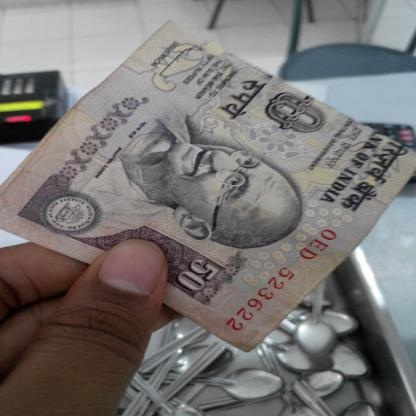Old50Front: (0, 19, 416, 353)
